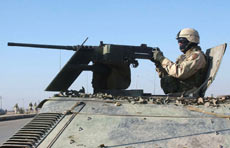rifle: (8, 41, 146, 61)
rifle in hand: (5, 36, 173, 76)
